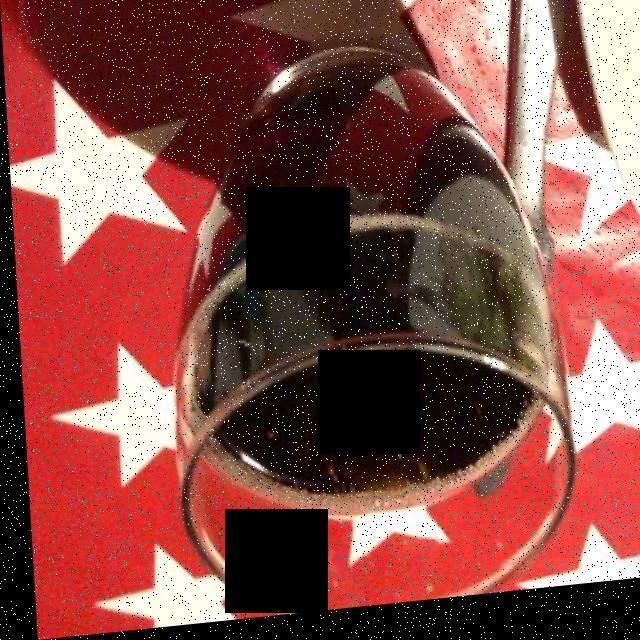coca-cola: (210, 360, 528, 500)
drink: (165, 51, 548, 515)
